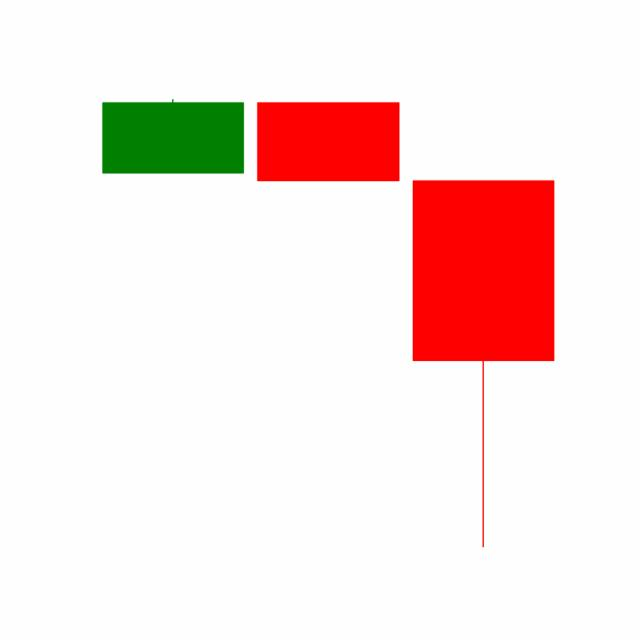Marubozu: (249, 100, 406, 182)
